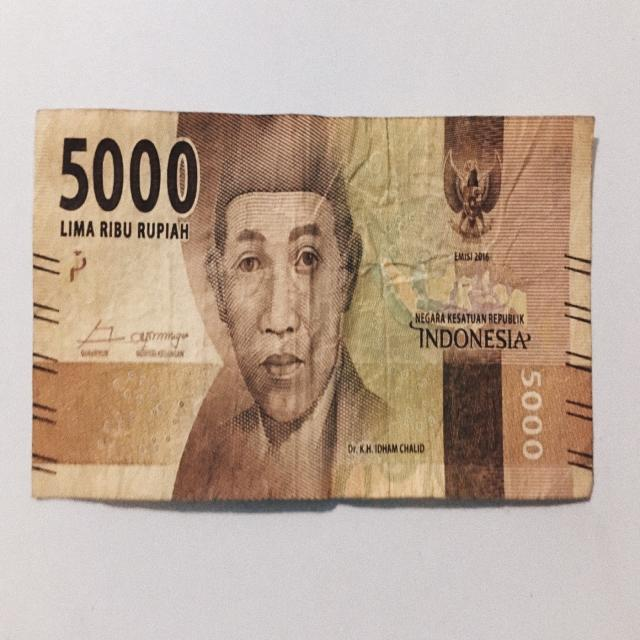lima ribu rupiah: (22, 82, 609, 540), (208, 135, 352, 416), (52, 131, 198, 239)
